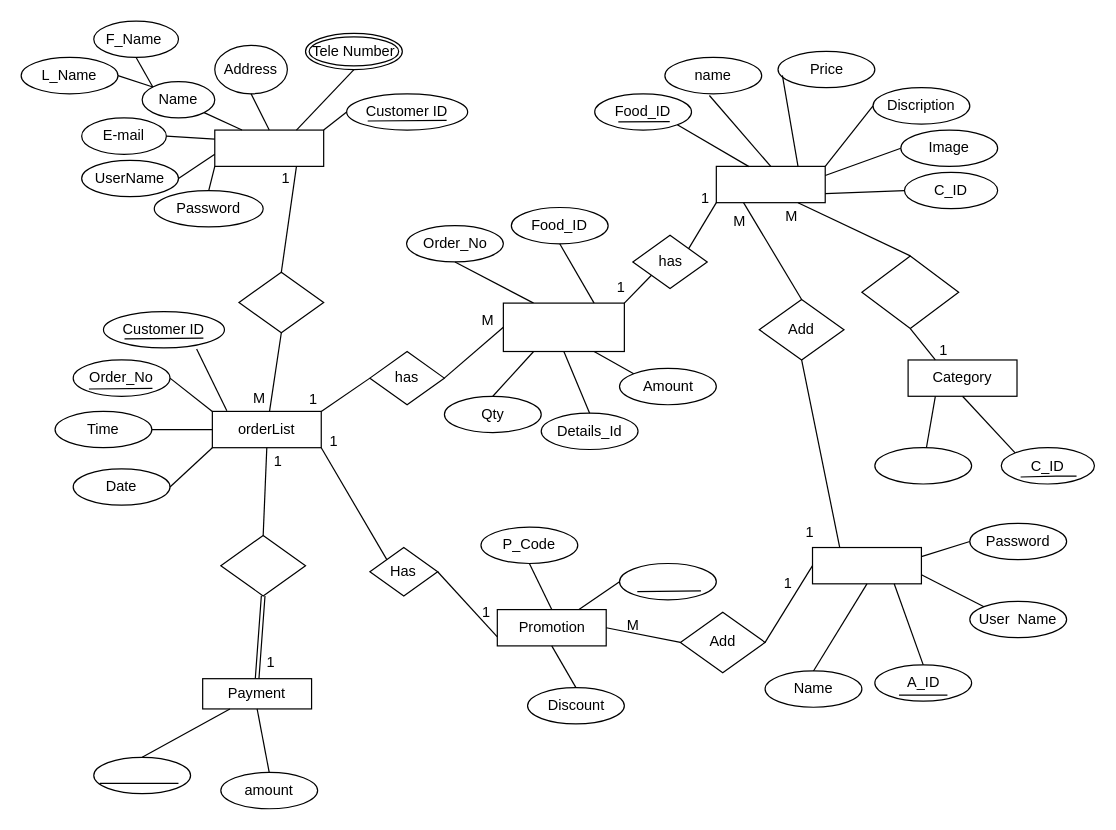
The diagram is 1116 pixels wide and 830 high, and some of its shapes have lost their labels. The centre of each missing label's shape, as x and y in pixels:
Admin: (866,565)
Belongs to: (910,292)
C_Name: (923,465)
Customer: (269,147)
Food: (770,184)
Have: (263,565)
Order Detail: (563,327)
P_ID: (667,581)
payment_Id: (142,775)
Place: (281,302)
